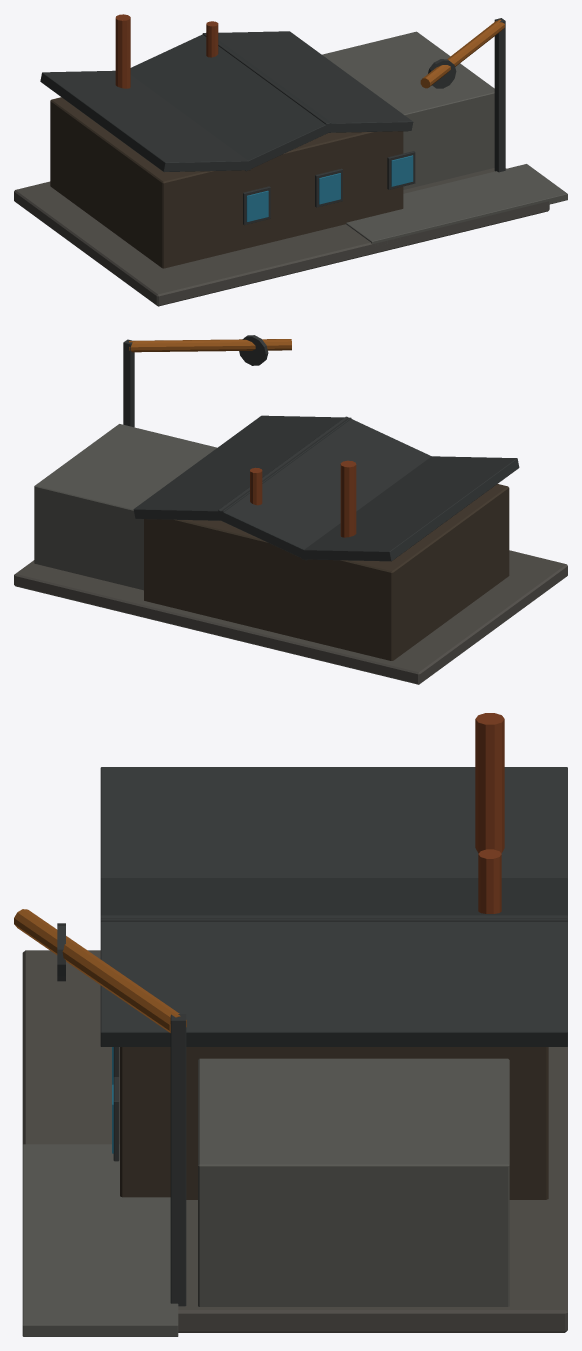
Rendered from BrassMachinistWorkshopV2.glb.
3 renders of one model, top to bottom at view 1: azimuth 30°, elevation 25°; view 2: azimuth 150°, elevation 25°; view 3: azimuth 270°, elevation 25°, orthographic. The views are drawn at different scales.
Visible parts, largest first — view 1: BrassMachinistWorkshopV2; view 2: BrassMachinistWorkshopV2; view 3: BrassMachinistWorkshopV2.
Boxes of the visible parts, left/top/right/bottom form: BrassMachinistWorkshopV2: left=14, top=14, right=567, bottom=306; BrassMachinistWorkshopV2: left=14, top=335, right=567, bottom=684; BrassMachinistWorkshopV2: left=14, top=713, right=567, bottom=1336.
Bounding box in the file's own units: 46 × 19 × 28.45.
Materials: 1 (1 with a texture image).
